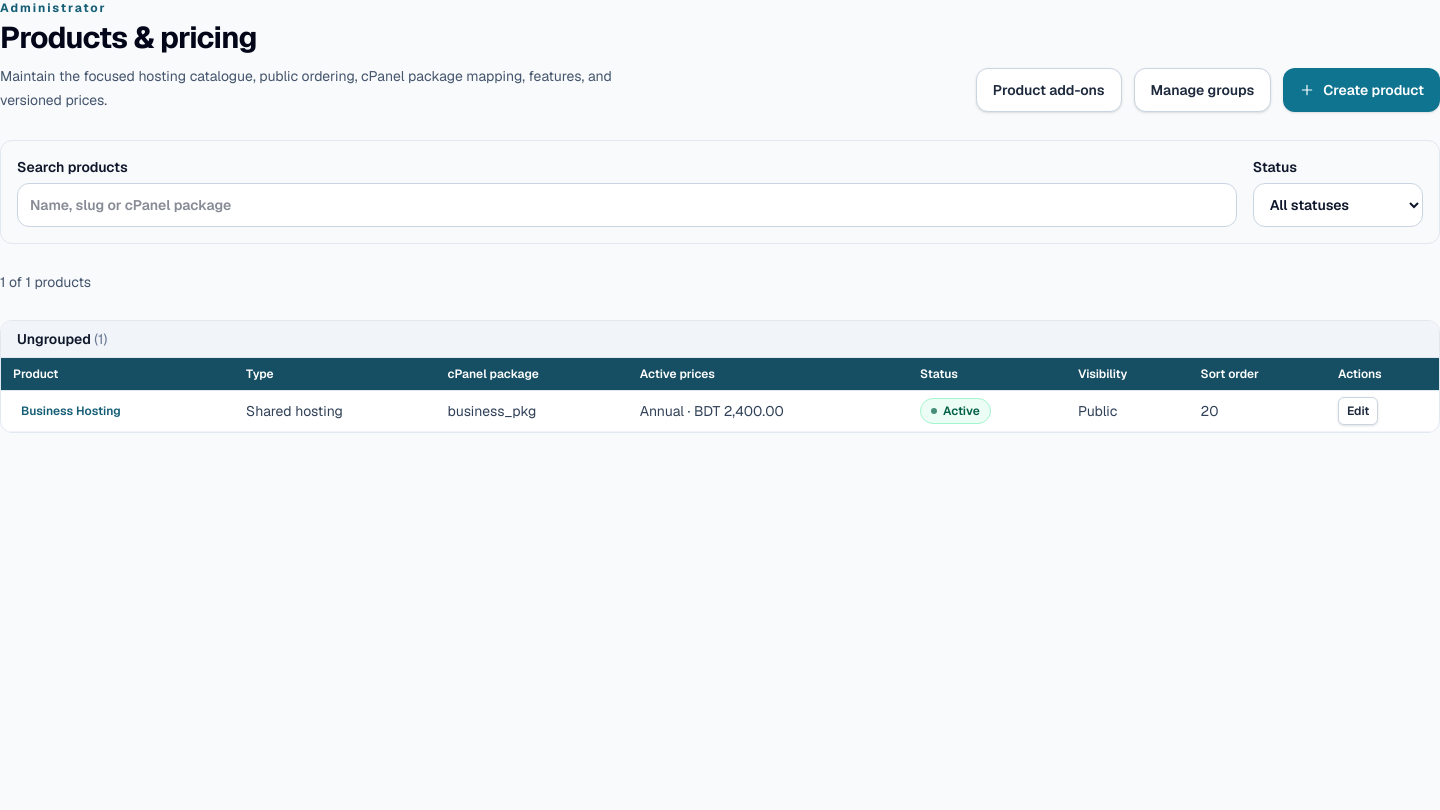
product and pricing interfaces › blocks invalid money before sending and retains edits after an API failure
This screenshot has width=1440, height=810.
Step 1. Click the button "Business Hosting" → [71, 411], box [13,397,129,425]
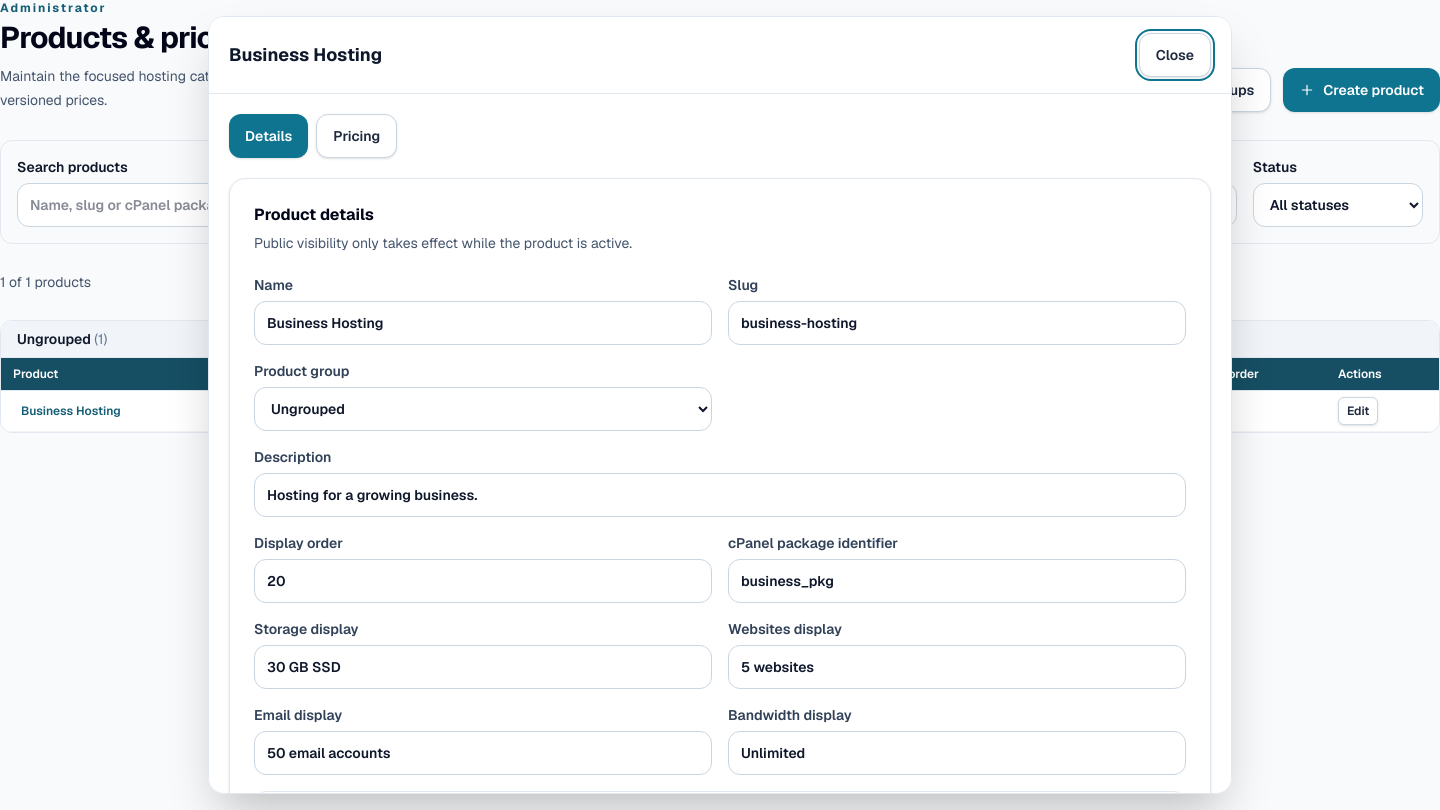
Step 2. Click the button "Pricing" → [357, 136], box [316,114,397,158]
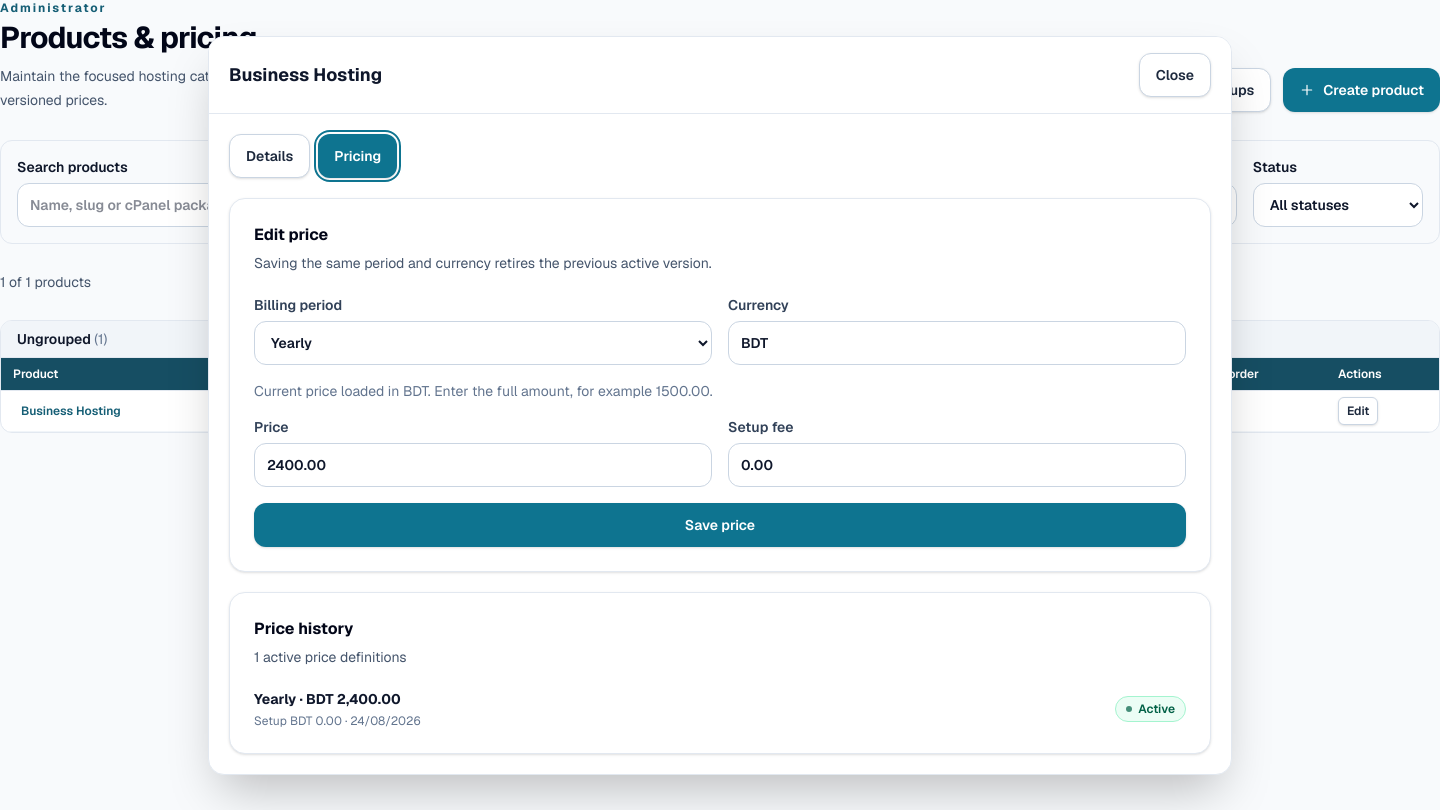
Step 3. Replace the text in the field labelled "Price" with "1500.001" → [483, 464], box [254,442,712,486]
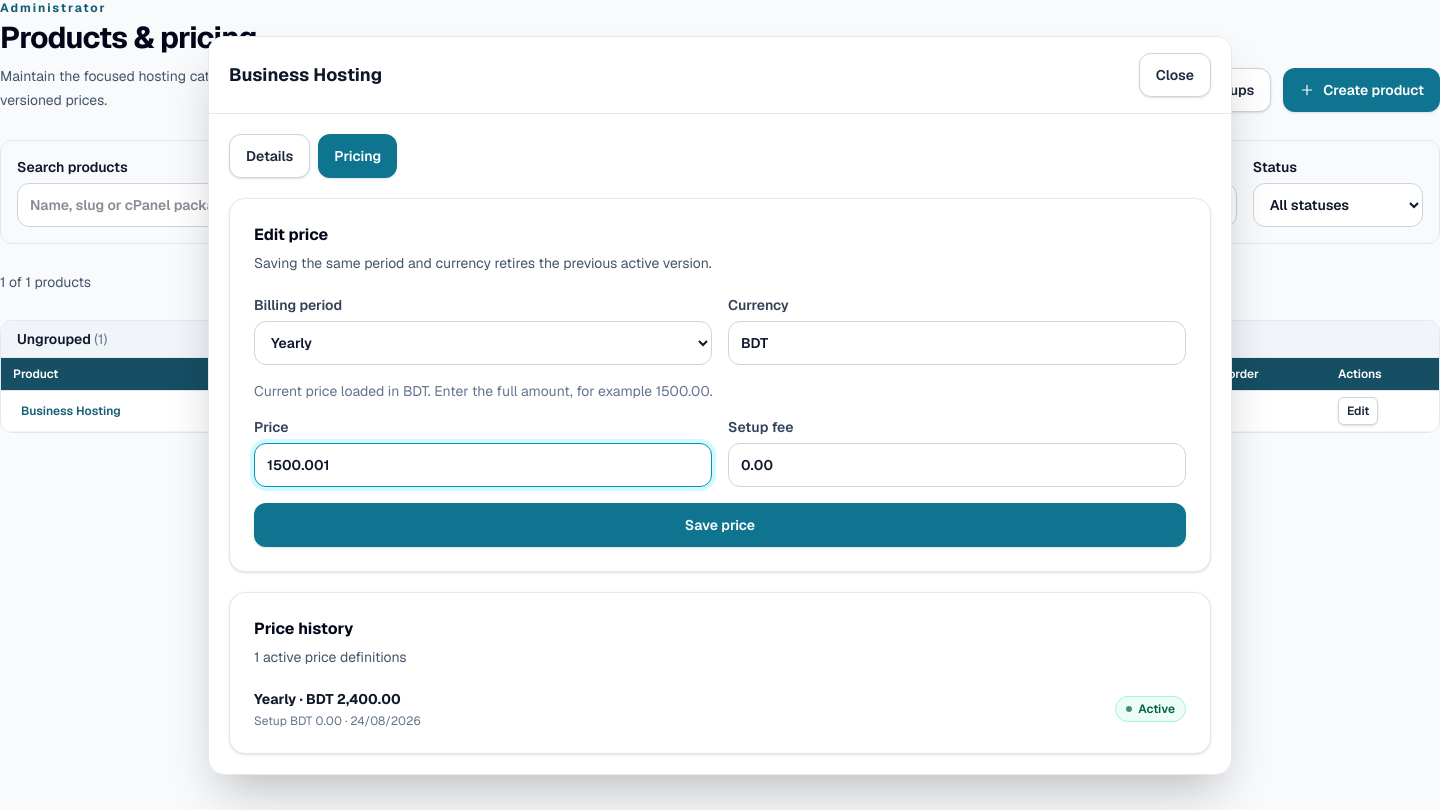
Step 4. Click the button "Save price" → [720, 524], box [254,502,1186,546]
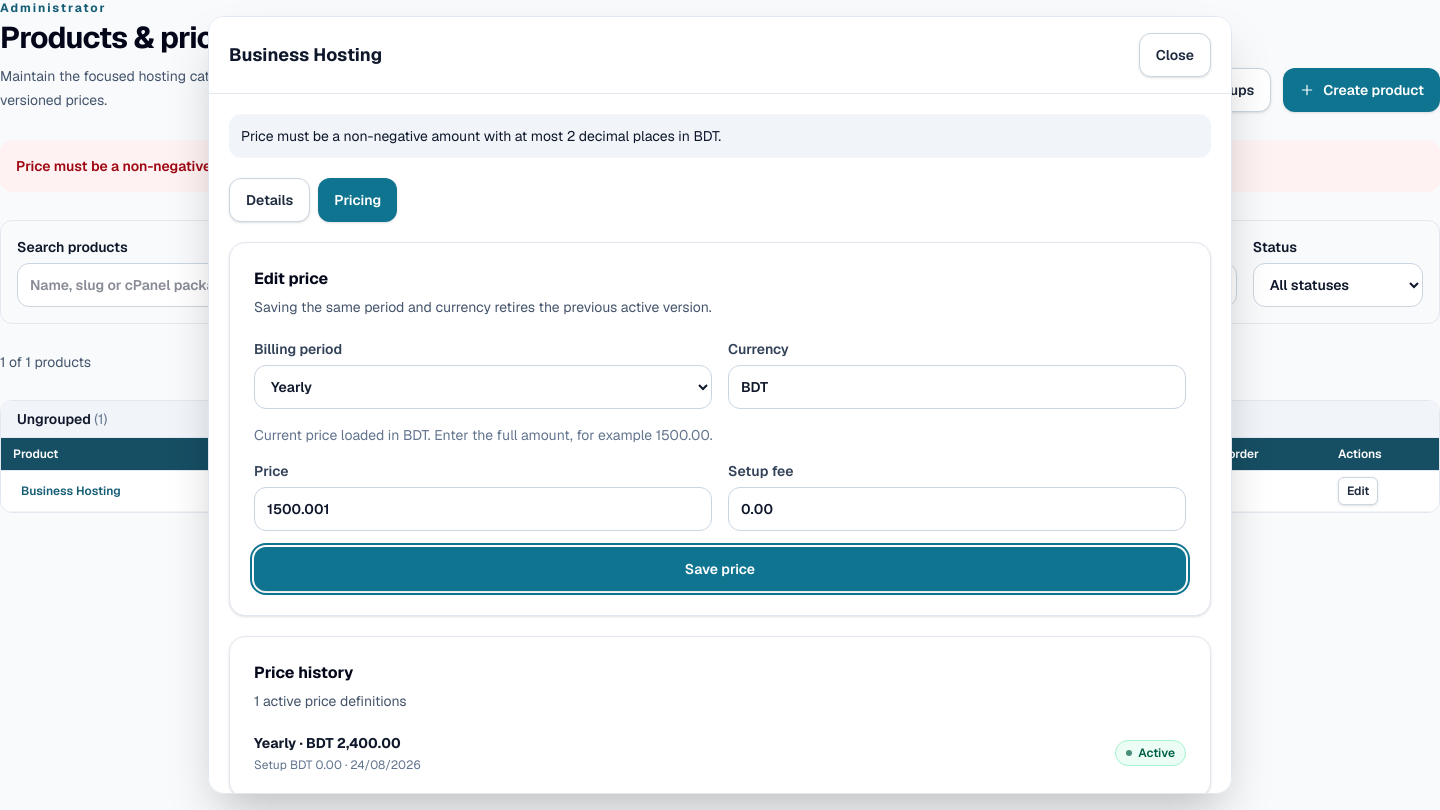
Result: the text "Price must be a non-negative amount" is shown at [241,127,721,145]
Step 5. Replace the text in the field labelled "Price" with "1500.25" → [483, 509], box [254,487,712,531]
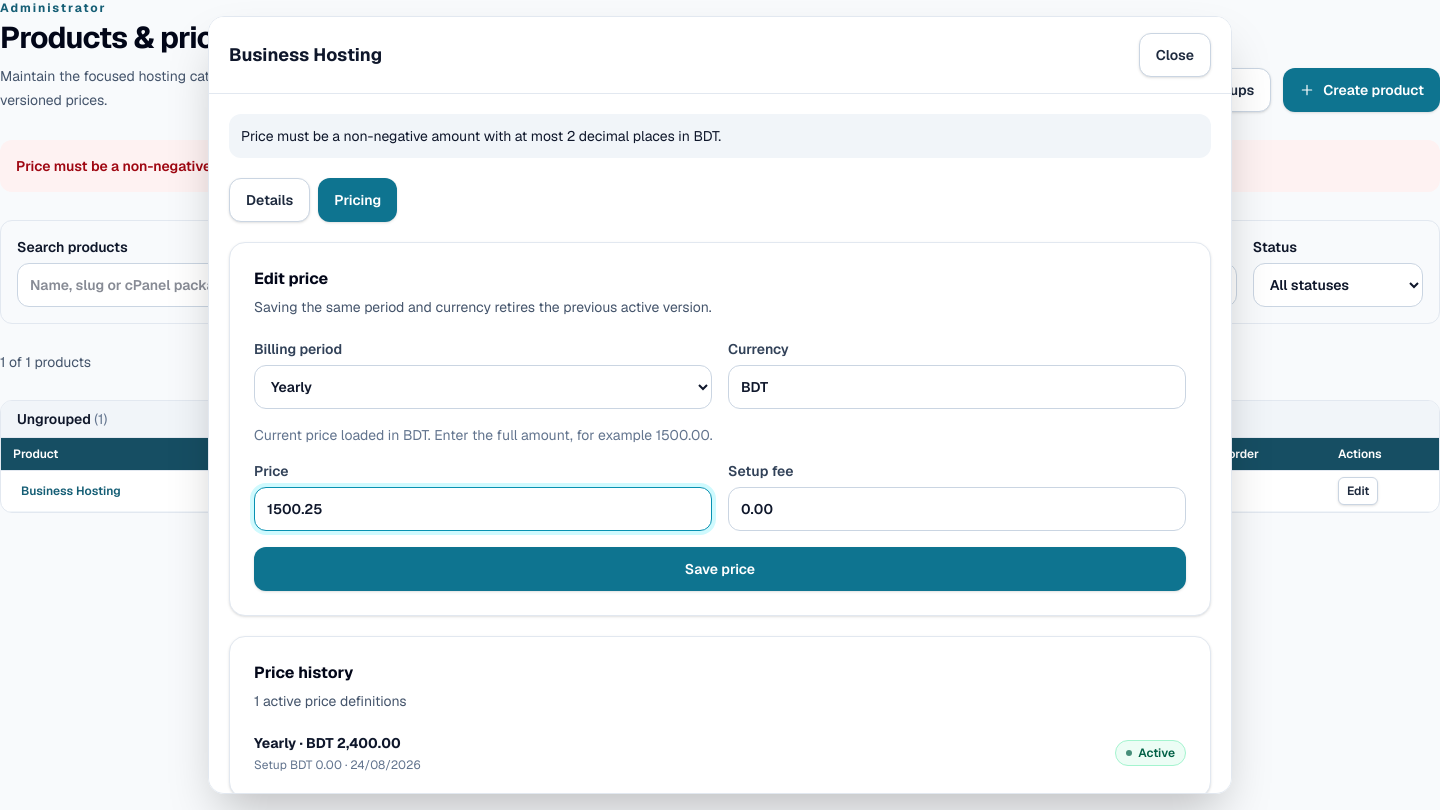
Step 6. Click the button "Save price" → [720, 569], box [254,547,1186,591]
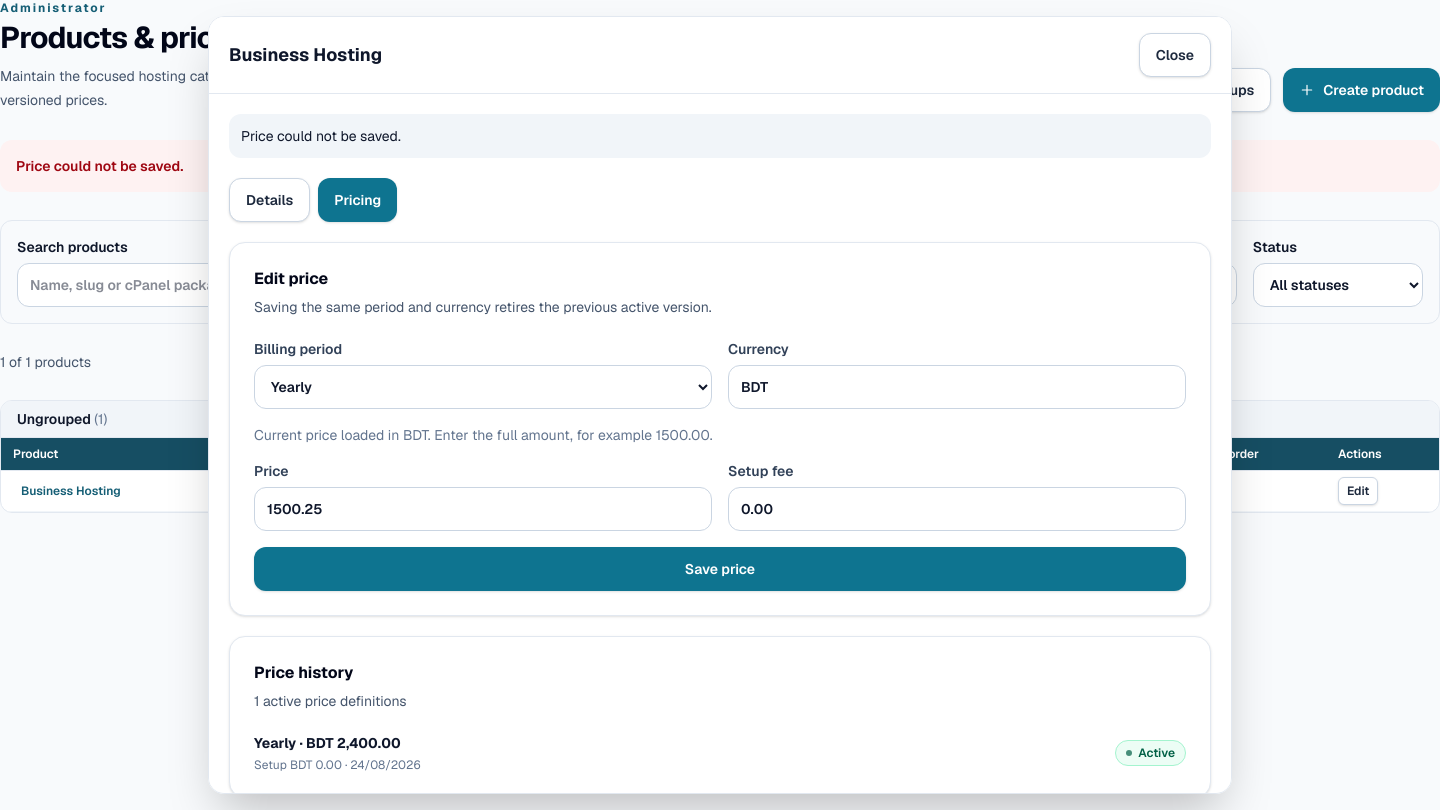
Result: the text "Yearly · BDT 2,400.00" is shown at [254,733,421,753]
Result: the text "Price could not be saved." is shown at [229,114,1211,158]
